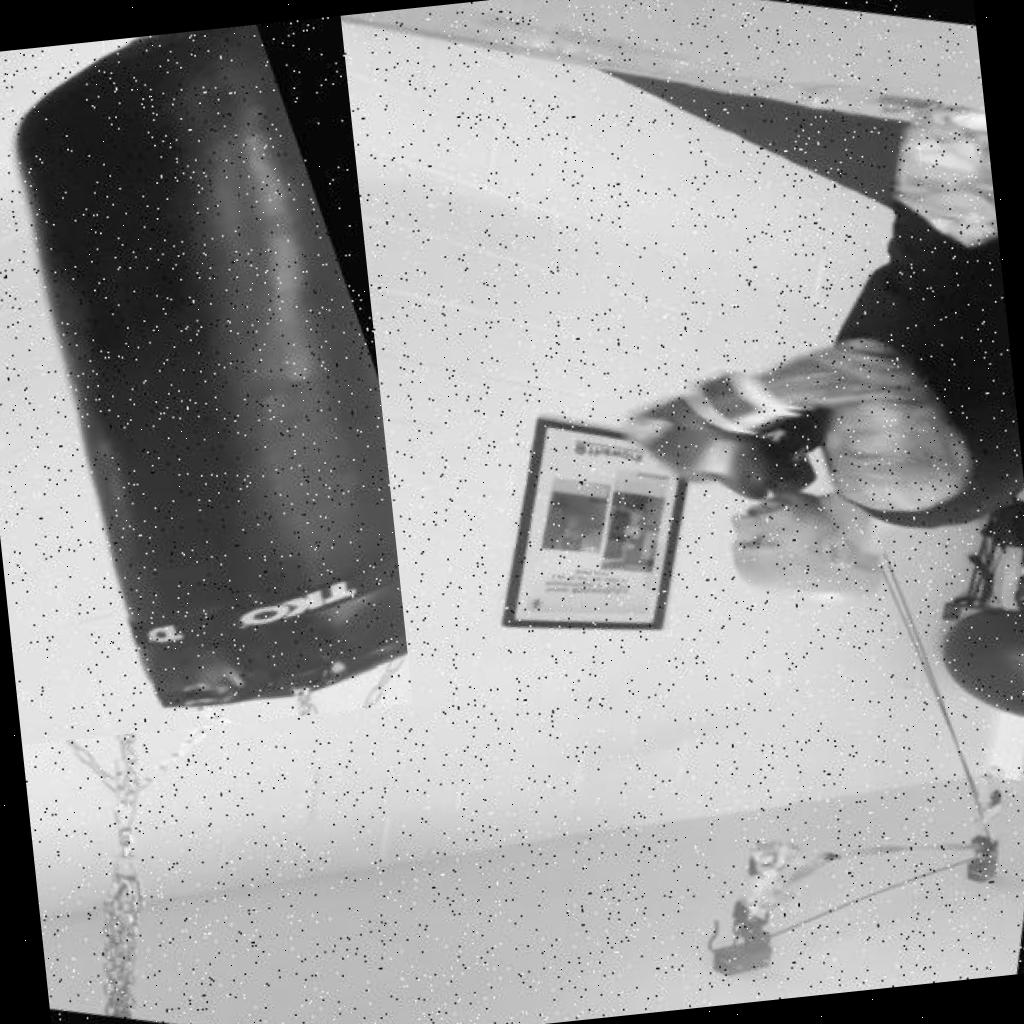bag: (0, 15, 412, 744)
